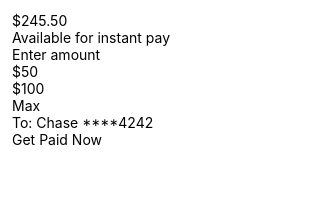
Test: Instant Pay Flow Integration › Transfer Button State › disables transfer button during processing
Type "100" into the field with test id "amount-input" at (121, 54), box [12,46,230,63]
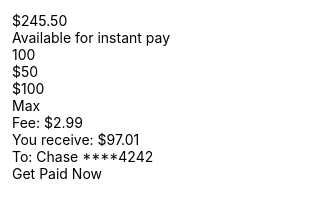
Click the element with test id "transfer-button" at (57, 174), box [12,165,102,182]
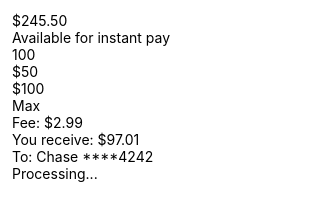
Expected: the text "Processing..." is shown, [12,165,98,182]
